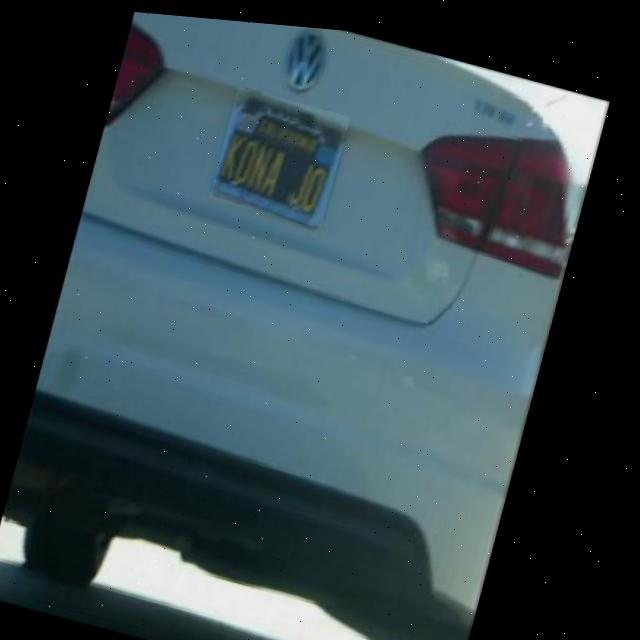LicensePlate: (211, 81, 352, 223)
